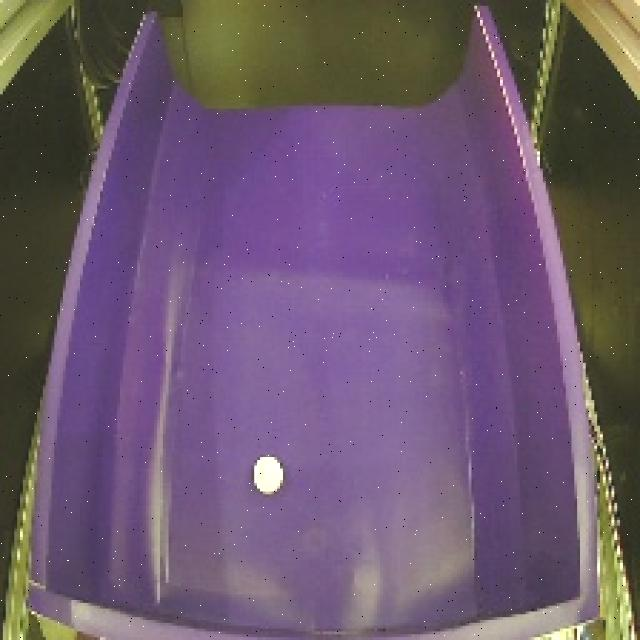small: (253, 449, 285, 500)
